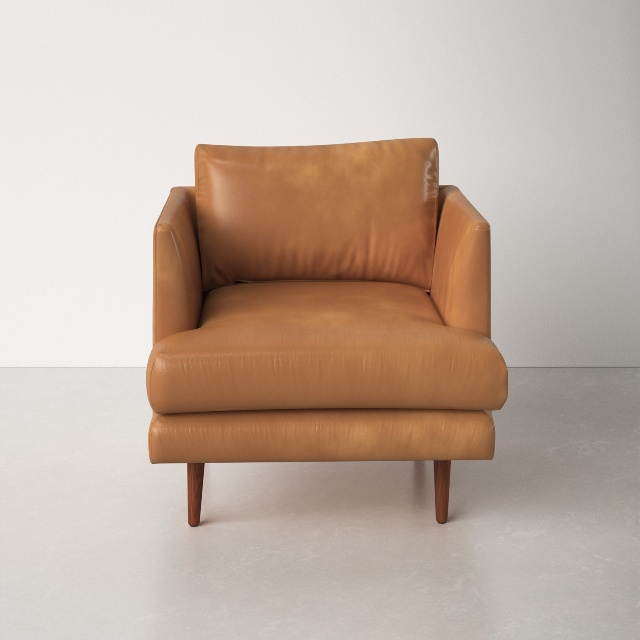obstacle: (147, 138, 507, 525)
